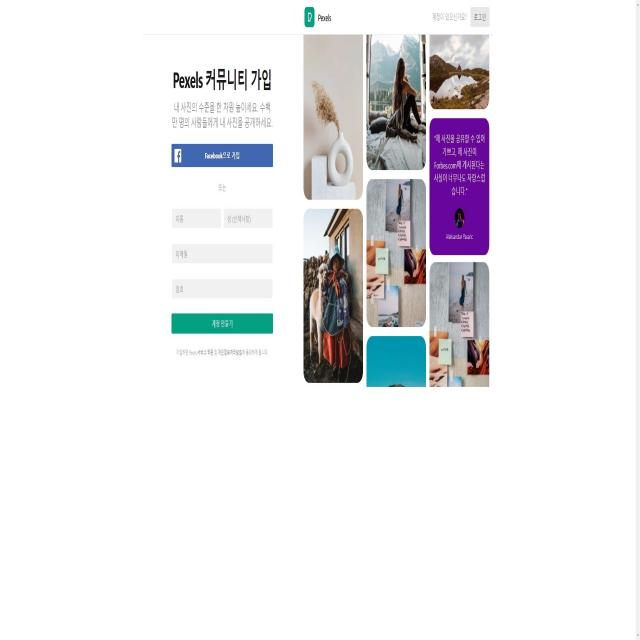button: (171, 143, 274, 166), (172, 313, 272, 334)
input: (172, 243, 272, 264), (173, 279, 272, 298), (225, 208, 272, 230), (173, 208, 221, 228)
